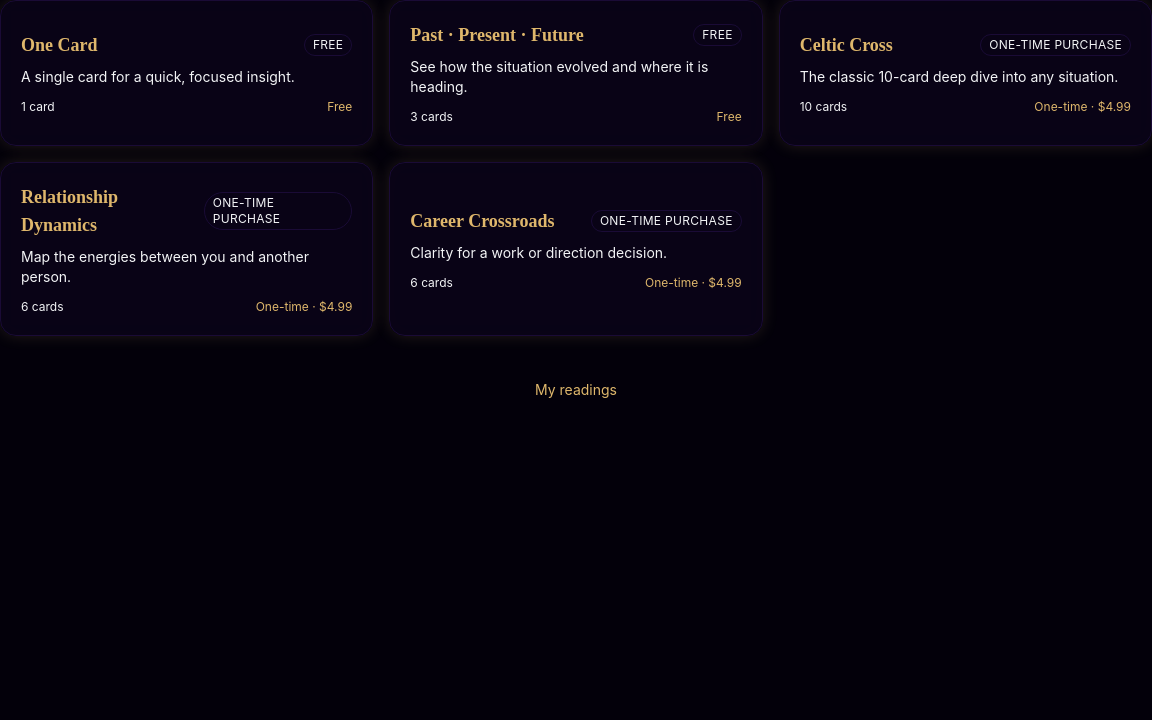
it: SpreadMenu (landing = spread grid) › AC2: selecting a non-fixed spread opens the question modal
Click the text "Past · Present · Future" at (497, 35), box [410,21,584,49]
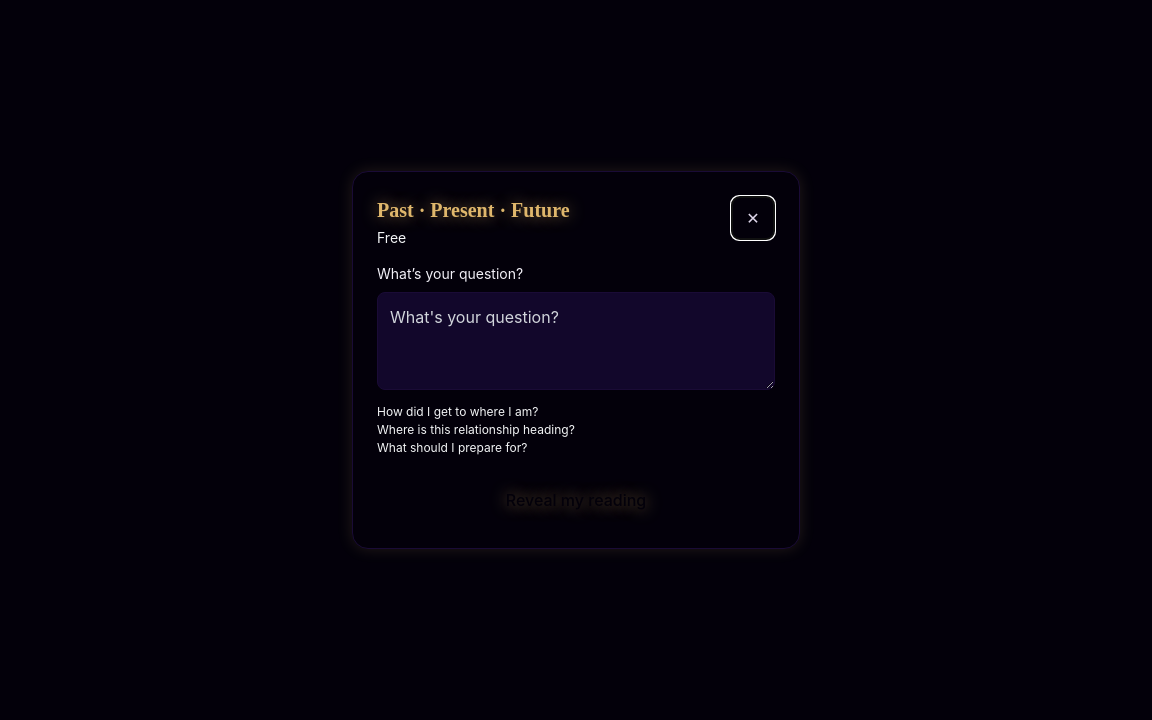
Expected: the text "What’s your question?" is shown, [377,265,523,282]
